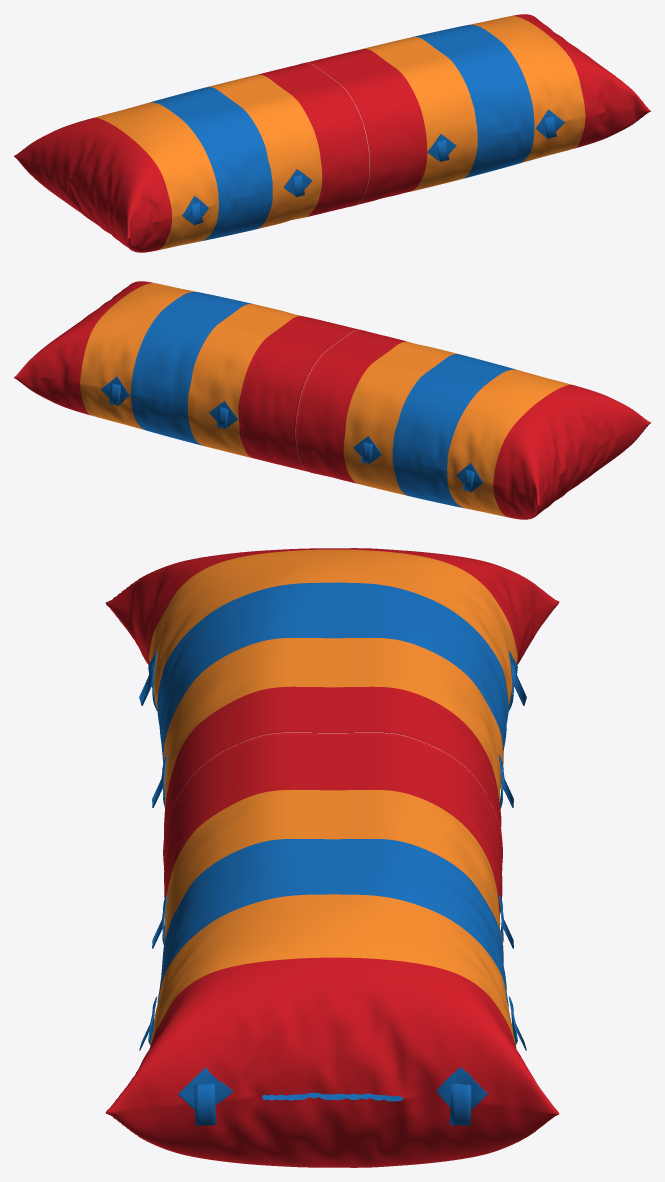
Rendered from blob.glb.
3 renders of one model, top to bottom at view 1: azimuth 30°, elevation 25°; view 2: azimuth 150°, elevation 25°; view 3: azimuth 270°, elevation 25°, orthographic. The views are drawn at different scales.
Parts seen in each view (by area): view 1: Node1, Node2, Node3, Node5, Node6, Node7; view 2: Node1, Node2, Node3, Node5, Node6, Node7; view 3: Node1, Node2, Node3, Node8, Node9, Node5.
Boxes of the visible parts, x1,y1,x2,y2 form: Node1: [14, 14, 650, 252]; Node2: [93, 16, 585, 250]; Node3: [150, 25, 534, 241]; Node5: [182, 109, 564, 225]; Node6: [191, 116, 556, 224]; Node7: [293, 140, 449, 196]; Node1: [14, 281, 650, 519]; Node2: [80, 283, 571, 517]; Node3: [131, 292, 515, 507]; Node5: [100, 376, 483, 492]; Node6: [108, 383, 474, 491]; Node7: [216, 406, 372, 463]; Node1: [105, 548, 559, 1167]; Node2: [149, 549, 517, 1047]; Node3: [157, 582, 508, 1101]; Node8: [194, 1083, 471, 1125]; Node9: [178, 1067, 487, 1109]; Node5: [148, 651, 517, 1045].
Size of the model in its own units: 183 by 39.88 by 68.32.
